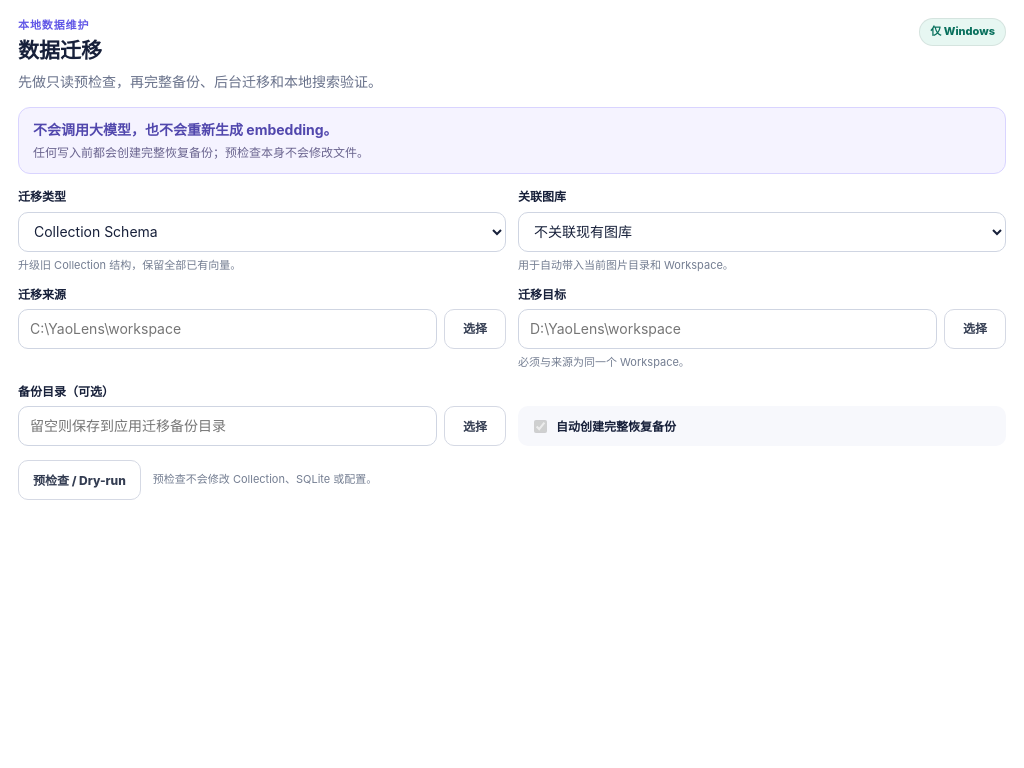
Test: DataMigrationSection › shows root-specific fields and preserves safe cancellation
This screenshot has width=1024, height=768.
Select "人物图库" in the dropdown named "migration_library" at (762, 232), box top-left (518, 212), bottom-right (1006, 252)
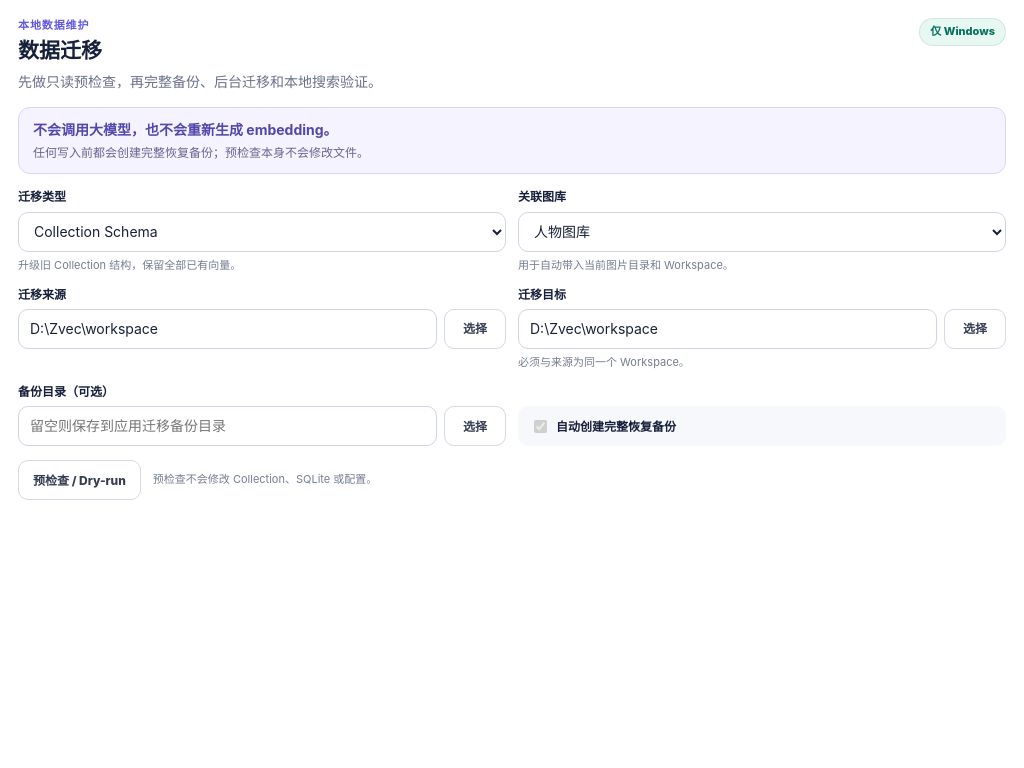
Select "图片 Root 重绑" in the dropdown named "migration_type" at (262, 232), box top-left (18, 212), bottom-right (506, 252)
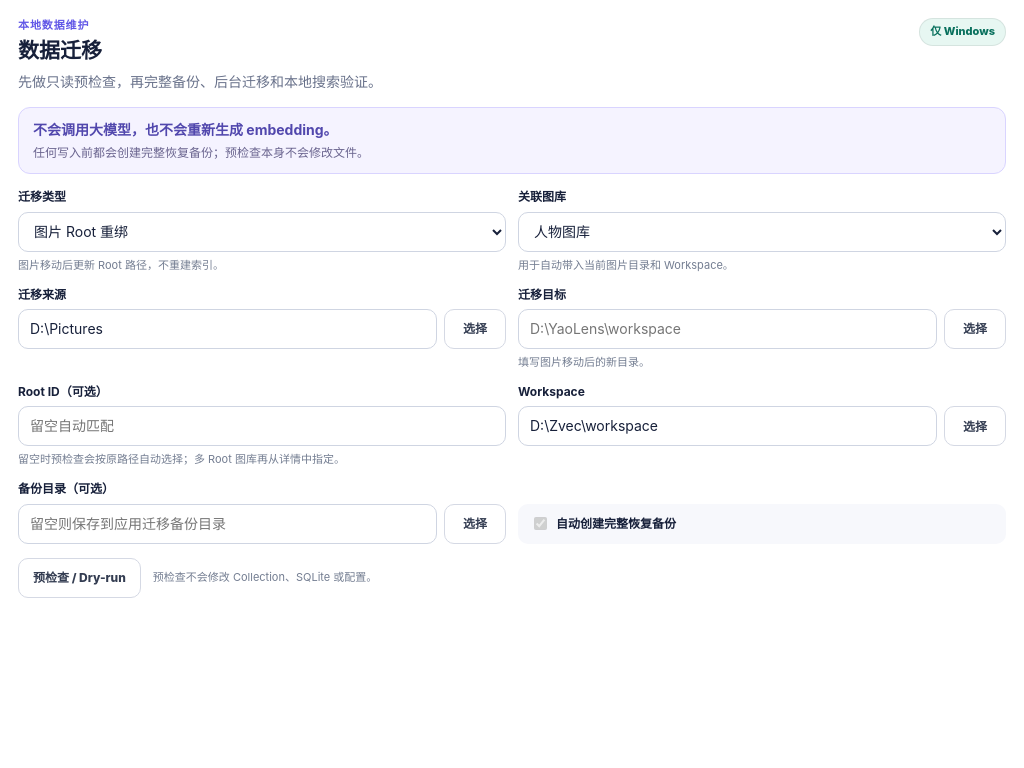
Expected: the field named "migration_root_id" is shown, top-left (18, 406), bottom-right (506, 446)
Expected: the field named "migration_workspace" is shown, top-left (518, 406), bottom-right (937, 446)
Expected: the text "Root ID（可选）" is shown, top-left (18, 384), bottom-right (108, 399)
